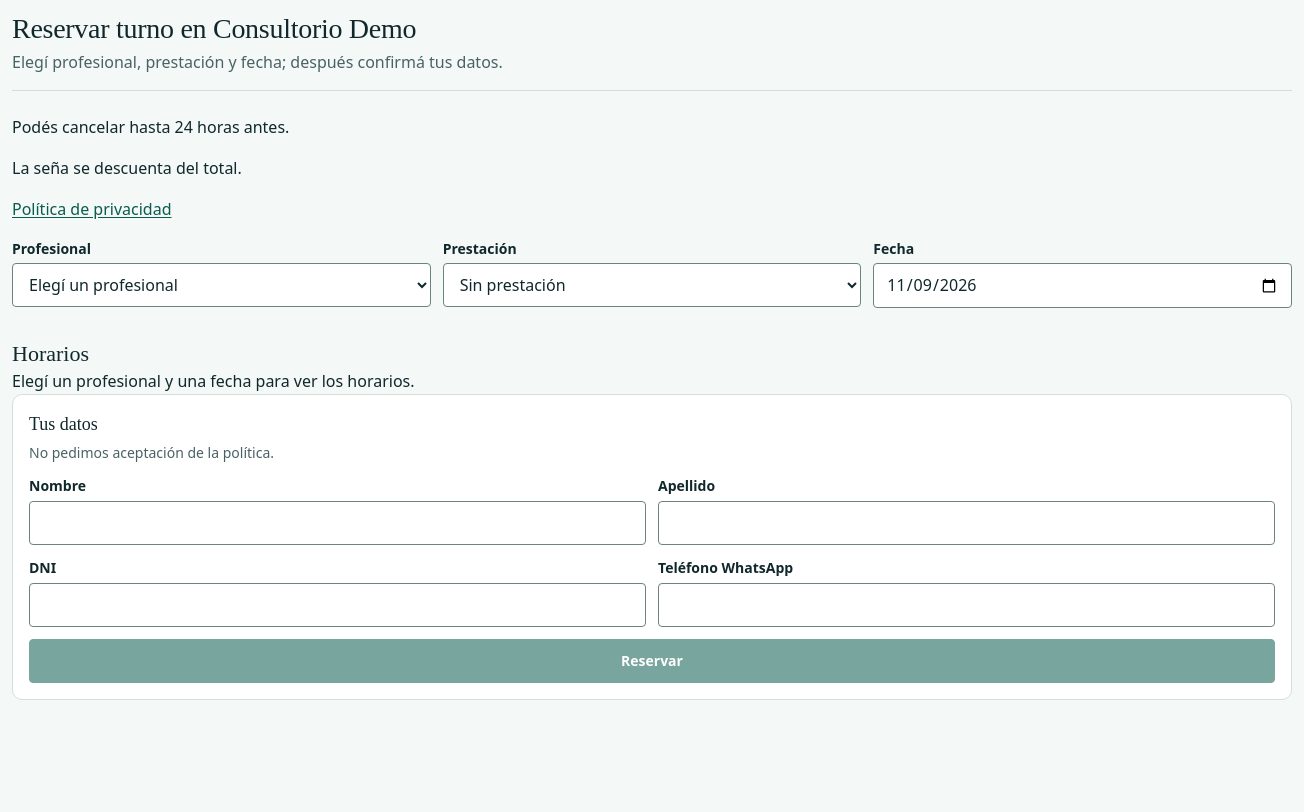
Scenario: ReservaPage › muestra un estado vacío cuando no hay horarios para la fecha
The width and height of the screenshot is (1304, 812).
Select "MP-1 (general)" in the dropdown labelled "Profesional" at (221, 286), box x1=12 y1=264 x2=431 y2=308
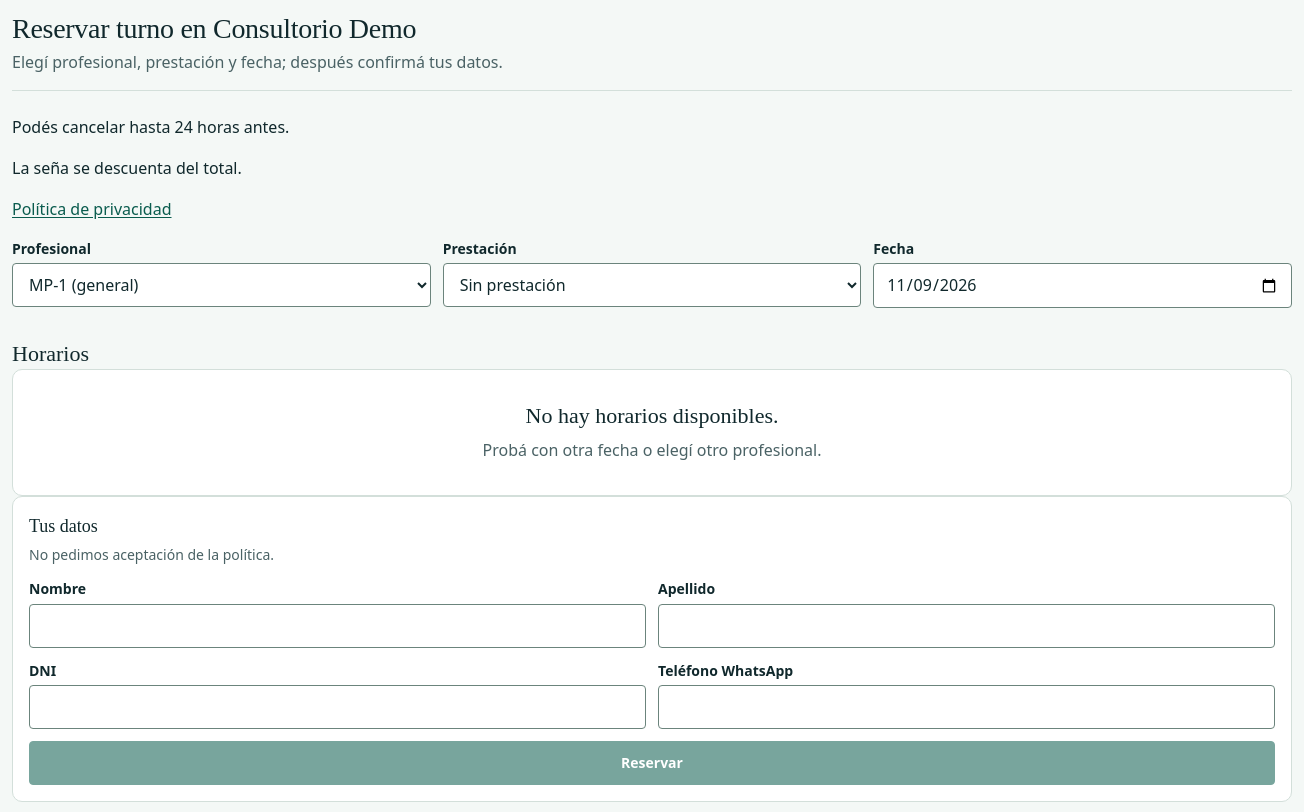
expect the heading "No hay horarios disponibles." is shown: met, box x1=526 y1=402 x2=778 y2=430
expect the text "Probá con otra fecha o elegí otro profesional." is shown: met, box x1=482 y1=438 x2=822 y2=463
